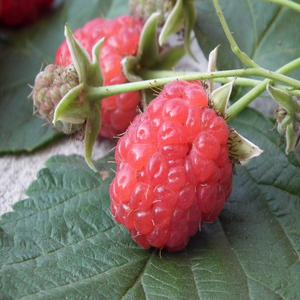raspb: (36, 14, 238, 260)
